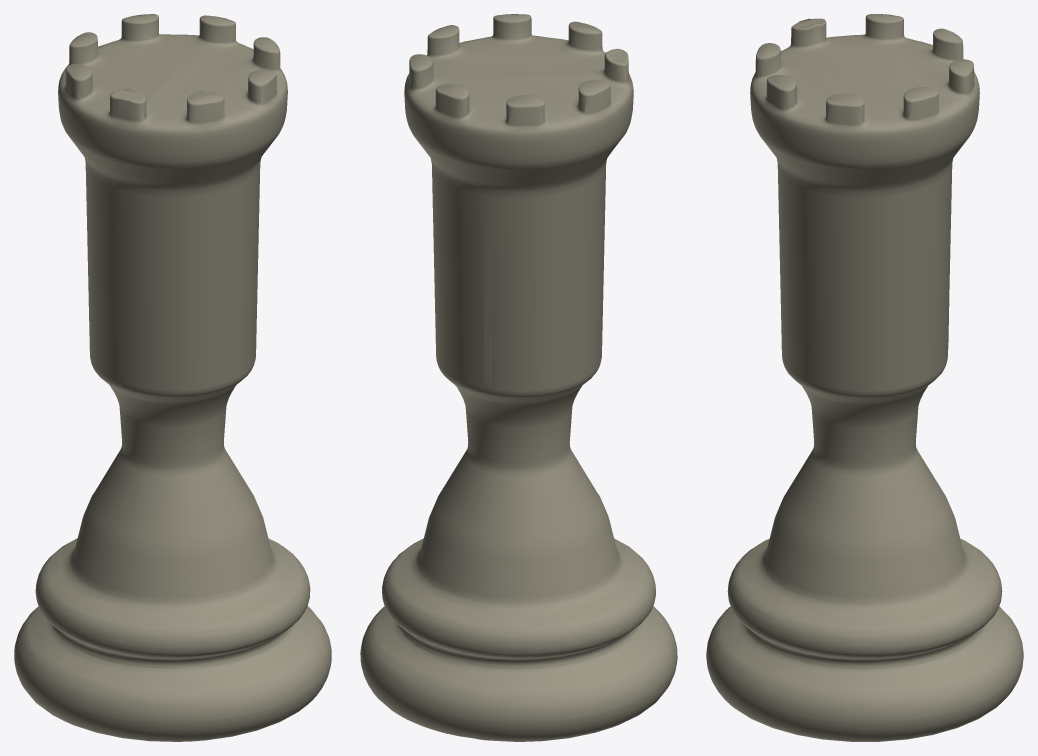
The model's file is klasikset_r_w.glb.
The picture shows the model from 3 angles, left to right: view 1: azimuth 30°, elevation 25°; view 2: azimuth 150°, elevation 25°; view 3: azimuth 270°, elevation 25°; orthographic projection.
Visible parts, largest first — view 1: White chess side.011_16; view 2: White chess side.011_16; view 3: White chess side.011_16.
Part boxes in pixels (x1=…): White chess side.011_16: x1=14, y1=14, x2=331, y2=741; White chess side.011_16: x1=360, y1=14, x2=677, y2=741; White chess side.011_16: x1=706, y1=14, x2=1023, y2=741.
Bounding box in the file's own units: 1.29 × 2.84 × 1.29.
